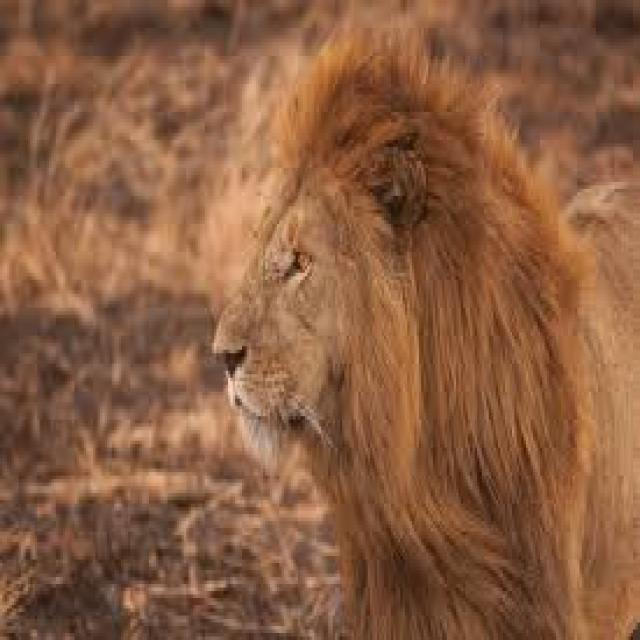Lion: (212, 13, 638, 627)
